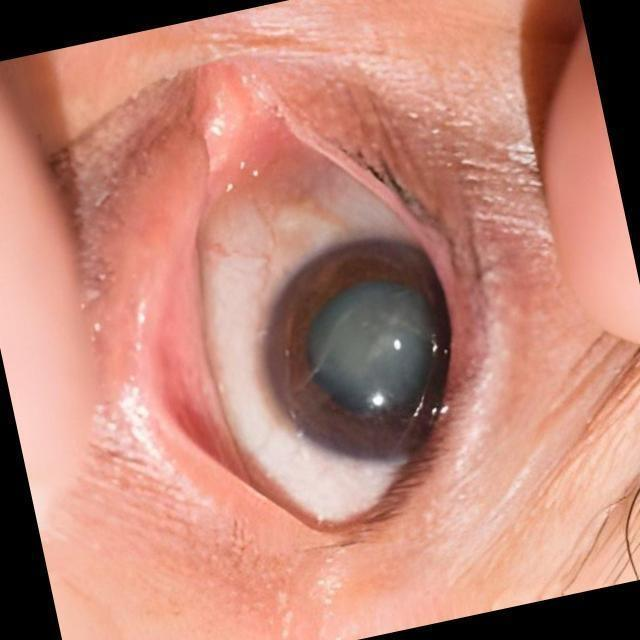Cataract: (238, 216, 487, 488)
